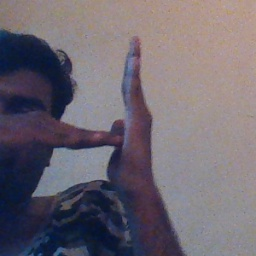Z: (58, 33, 160, 193)
